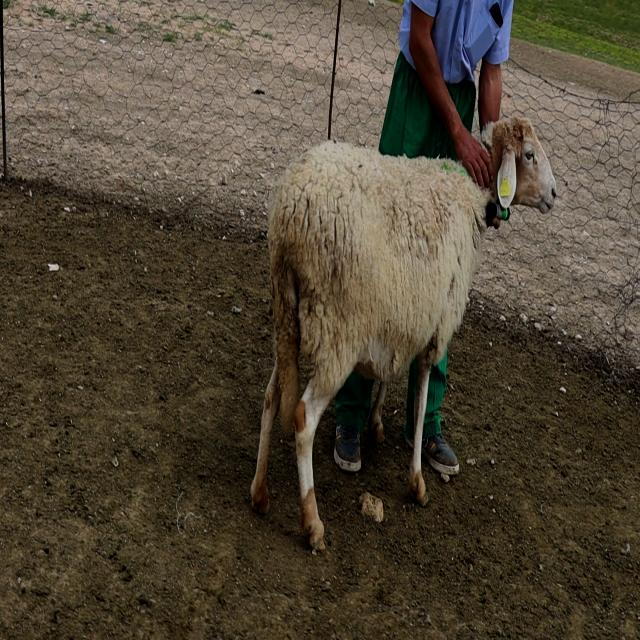Score_5: (251, 117, 557, 549)
